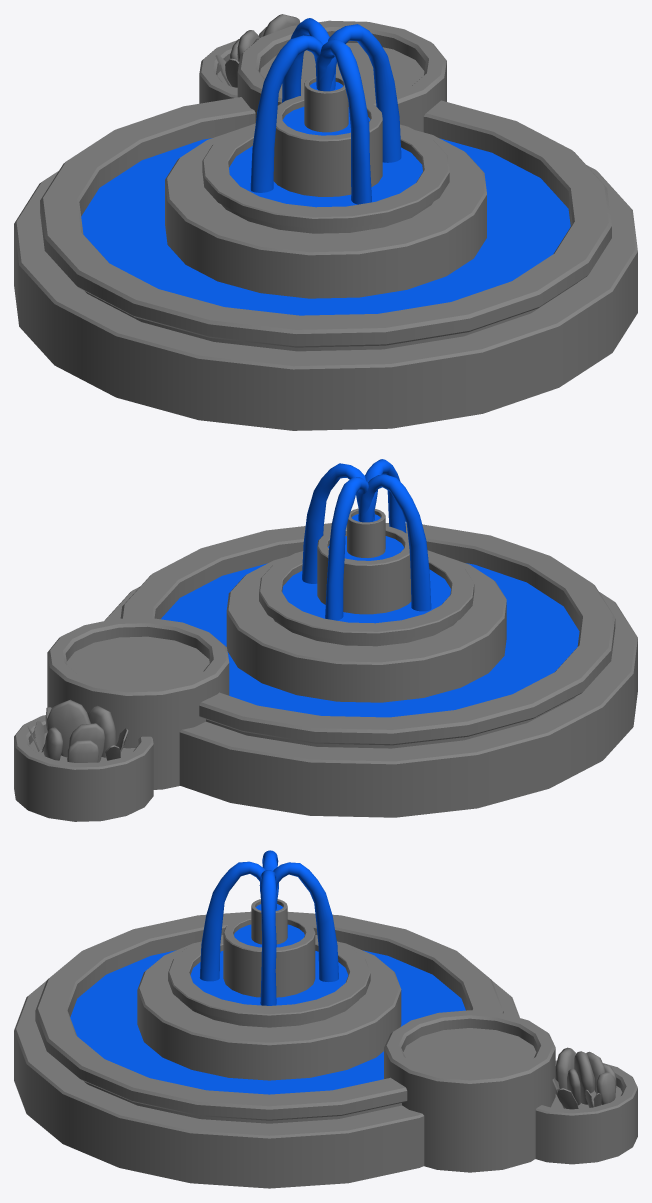
The model's file is Fountain_Final.fbx.
3 views of the same model, one above another, from view 1: azimuth 30°, elevation 25°; view 2: azimuth 150°, elevation 25°; view 3: azimuth 270°, elevation 25° (orthographic). The views are drawn at different scales.
Parts seen in each view (by area): view 1: polySurface9 (×2), polySurface2, polySurface3, polySurface4, polySurface5; view 2: polySurface9 (×2), polySurface3, polySurface5, polySurface4, polySurface2; view 3: polySurface9 (×2), polySurface5, polySurface2, polySurface4.
Part boxes in pixels (x1=…): polySurface9 (×2): x1=14, y1=14, x2=637, y2=430; polySurface2: x1=315, y1=39, x2=371, y2=204; polySurface3: x1=250, y1=35, x2=328, y2=192; polySurface4: x1=318, y1=24, x2=401, y2=162; polySurface5: x1=282, y1=18, x2=335, y2=102; polySurface9 (×2): x1=14, y1=508, x2=637, y2=821; polySurface3: x1=358, y1=474, x2=431, y2=611; polySurface5: x1=325, y1=477, x2=372, y2=620; polySurface4: x1=302, y1=463, x2=374, y2=583; polySurface2: x1=362, y1=459, x2=406, y2=532; polySurface9 (×2): x1=14, y1=899, x2=637, y2=1188; polySurface5: x1=273, y1=862, x2=338, y2=981; polySurface2: x1=199, y1=861, x2=265, y2=981; polySurface4: x1=259, y1=870, x2=276, y2=1005.
Size of the model in its own units: 21.92 by 10.35 by 26.77.
